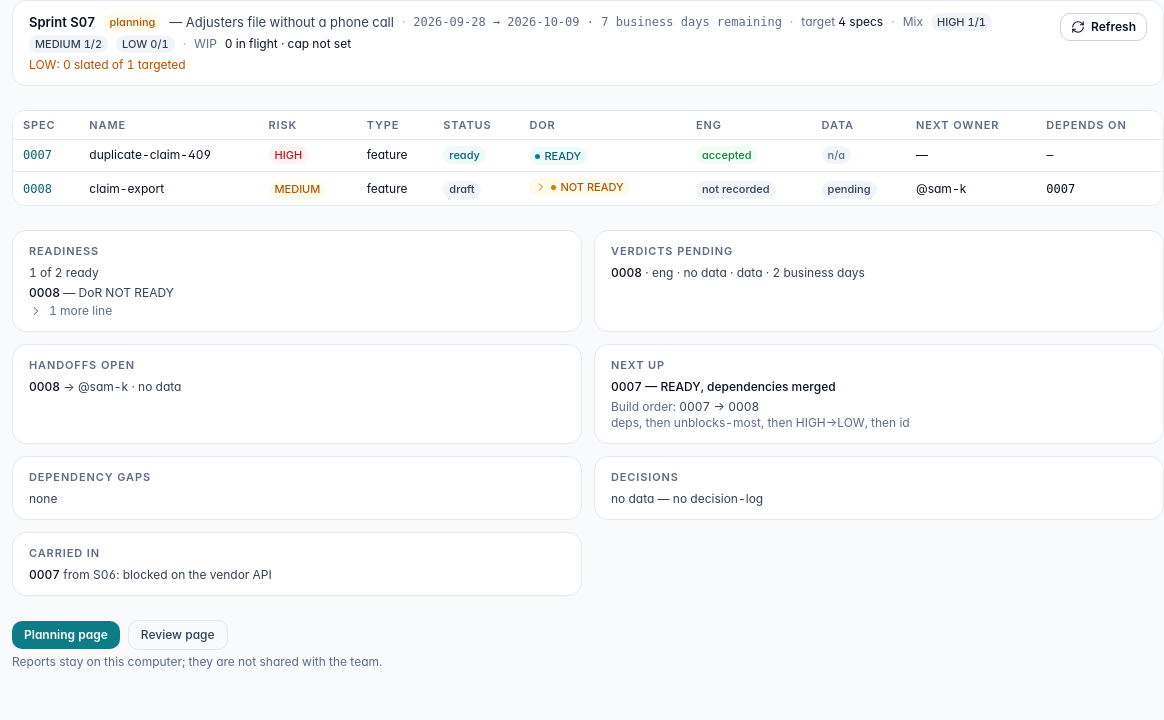
Test: SprintBoard: the two pages › a refused write is the plugin's one line, and nothing is opened
Check: the element with test id "sprint-pages" is shown, box x1=12 y1=620 x2=382 y2=668
Click the button "Planning page": (66, 634) x1=12 y1=620 x2=120 y2=648
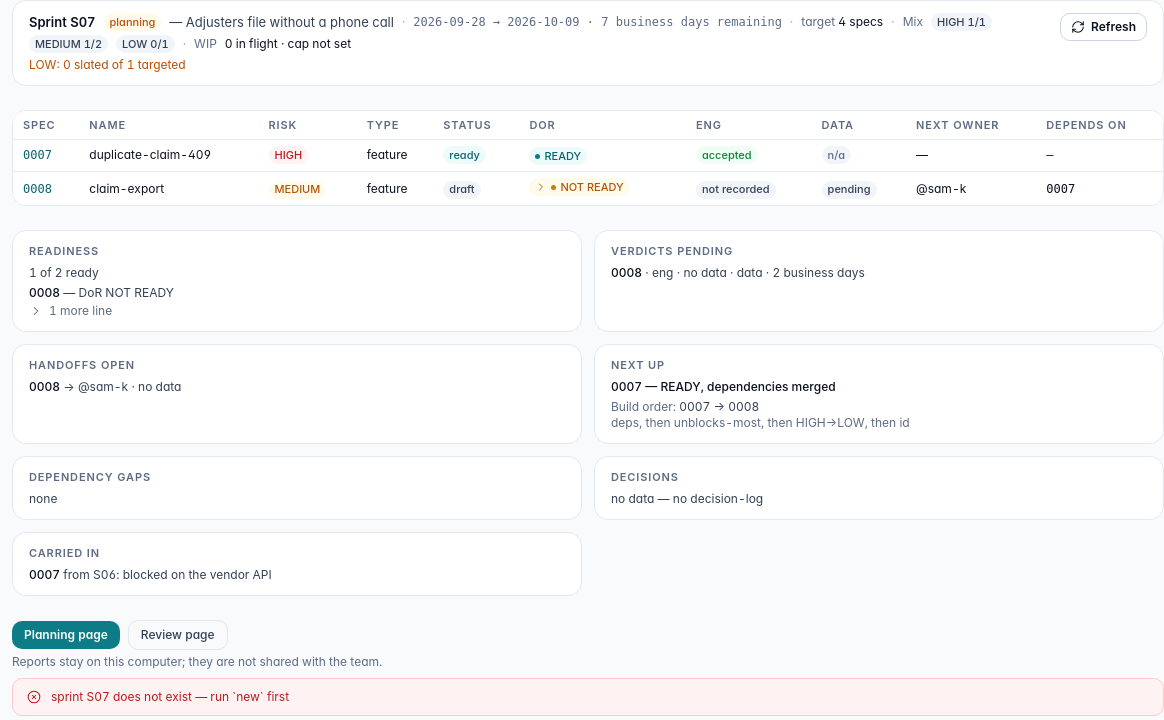
Check: the message reads "sprint S07 does not exist — run `new` first", box x1=51 y1=688 x2=289 y2=704
Check: the number of messages is 1, box x1=12 y1=678 x2=1163 y2=716
